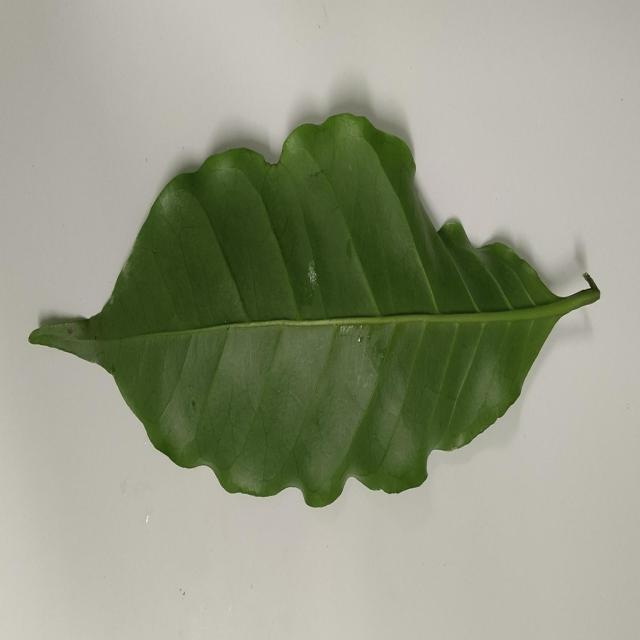Sanas: (26, 113, 602, 510)
